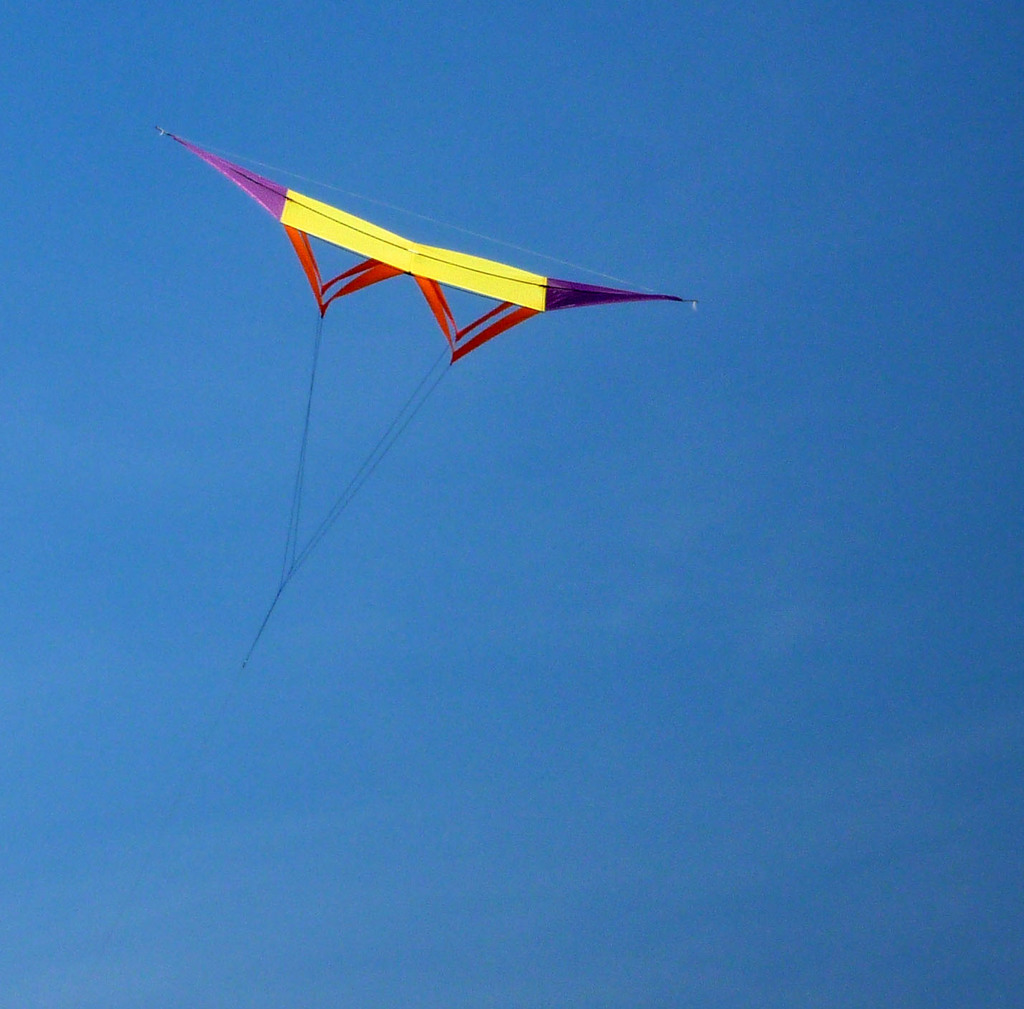kite: (136, 105, 718, 404)
